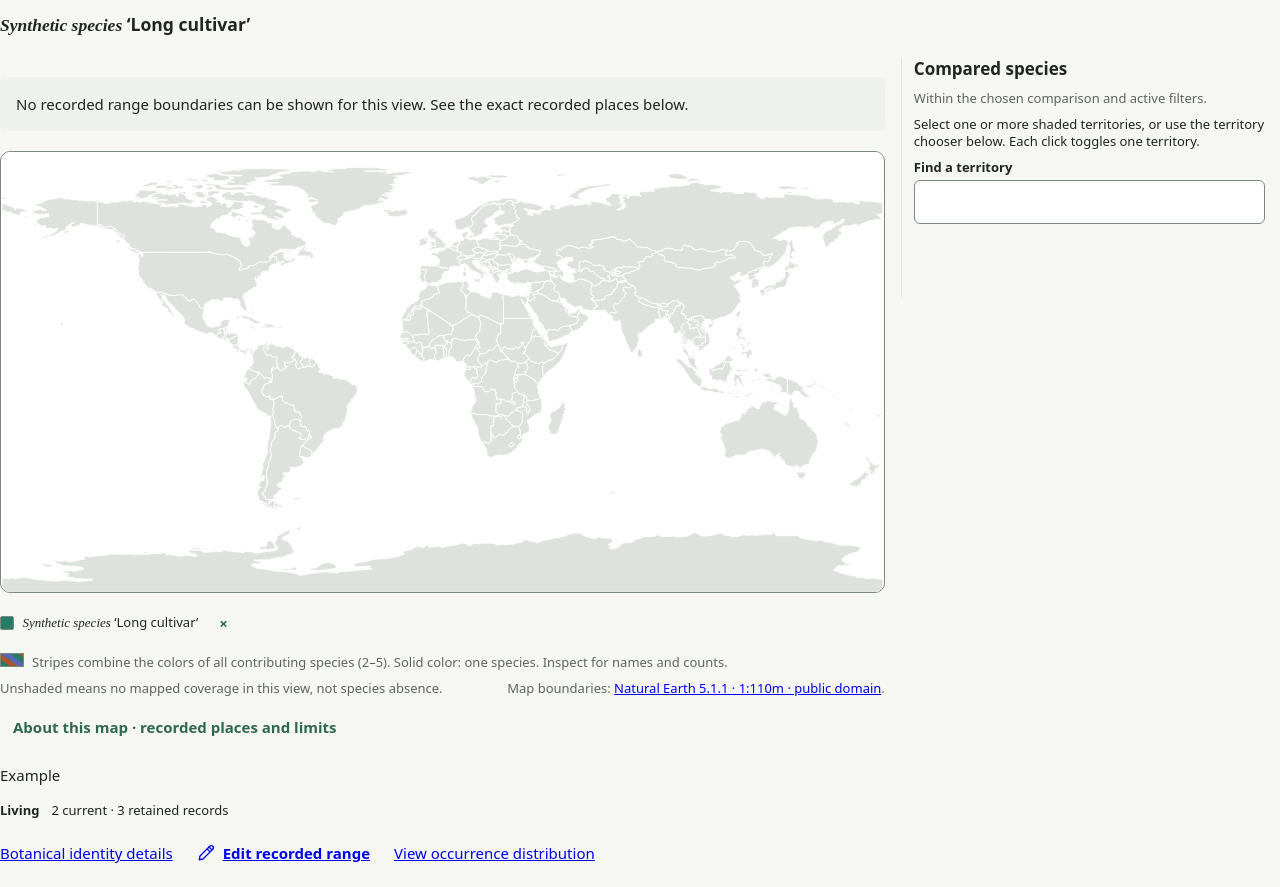
Test case: custom/unmapped range remains authoritative without borrowing parent geometry
This screenshot has width=1280, height=887.
(page scrolled)
Click the button "About this map · recorded places and limits" at (175, 727), box [0,705,350,749]
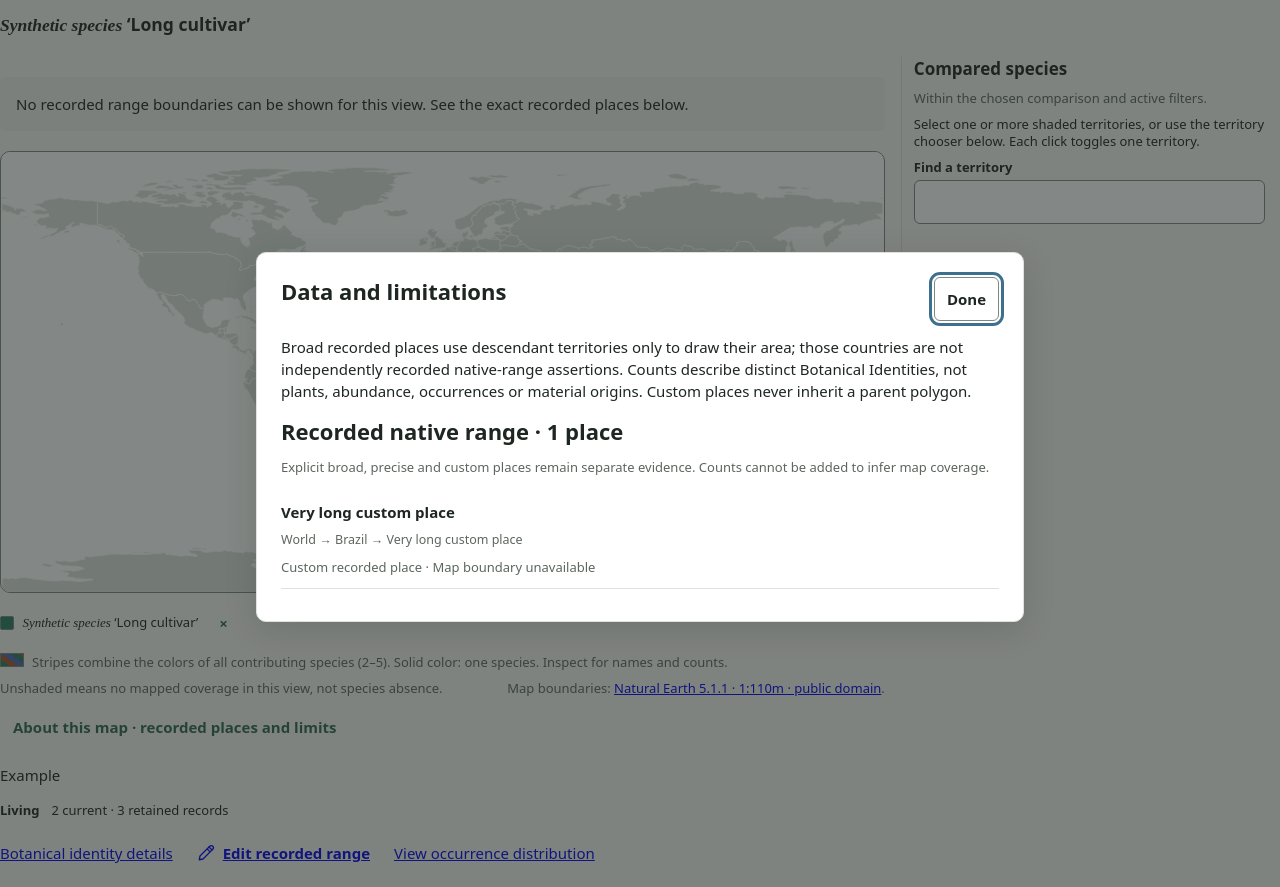
expect the dialog "Data and limitations" is shown: met, box [256,252,1024,622]
expect the heading "Recorded native range · 1 place" is shown: met, box [281,416,623,446]
expect the text "Custom recorded place · Map boundary unavailable" is shown: met, box [281,558,595,576]
